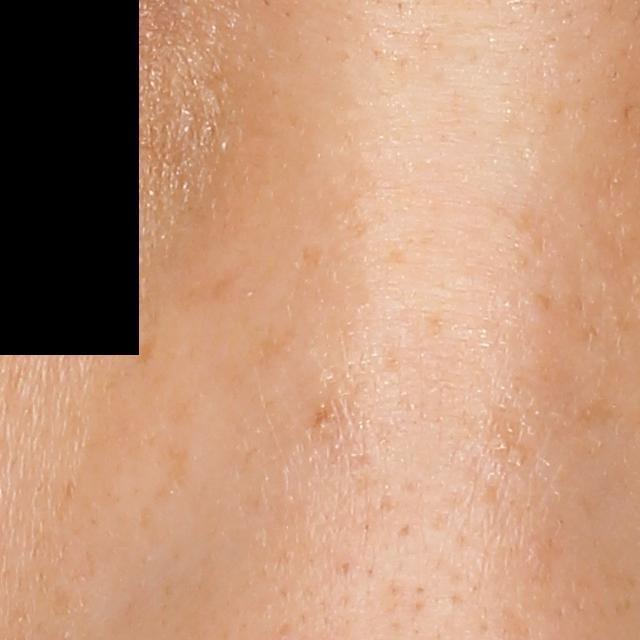melasma: (131, 330, 161, 370)
